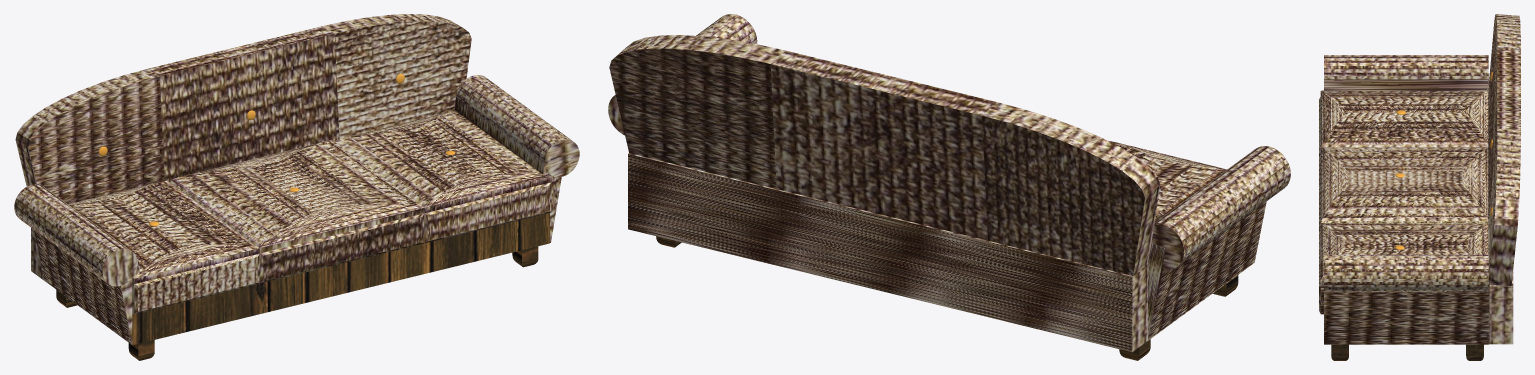
The model's file is sofa.obj.
3 views of the same model, side by side, from view 1: azimuth 30°, elevation 25°; view 2: azimuth 150°, elevation 25°; view 3: azimuth 270°, elevation 25° (orthographic). The views are drawn at different scales.
Visible parts, largest first — view 1: Sofa_Cube.011; view 2: Sofa_Cube.011; view 3: Sofa_Cube.011.
Part boxes in pixels (left/top/right/bottom): Sofa_Cube.011: left=14, top=14, right=579, bottom=360; Sofa_Cube.011: left=608, top=14, right=1290, bottom=360; Sofa_Cube.011: left=1319, top=14, right=1520, bottom=360.
Size of the model in its own units: 2.17 by 0.8491 by 0.8537.
